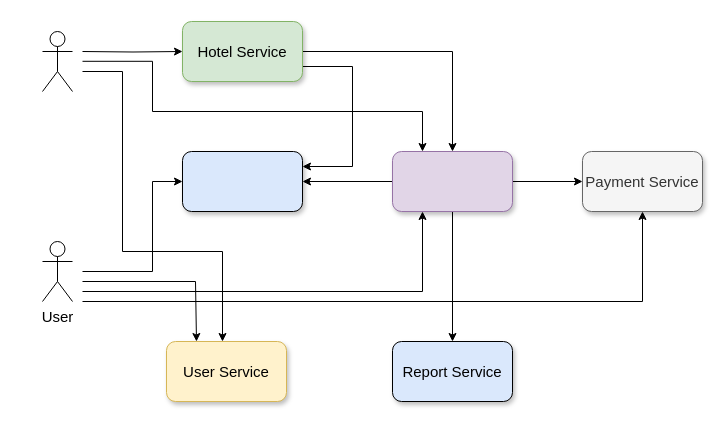
Image size: 726x426. Some labels were removed from this diagram. The centre of each missing label's shape, as x and y in pixels:
Hotel Admin: the point at 57,61
Hotel Search Service: the point at 243,182
Reservation Service: the point at 453,182
